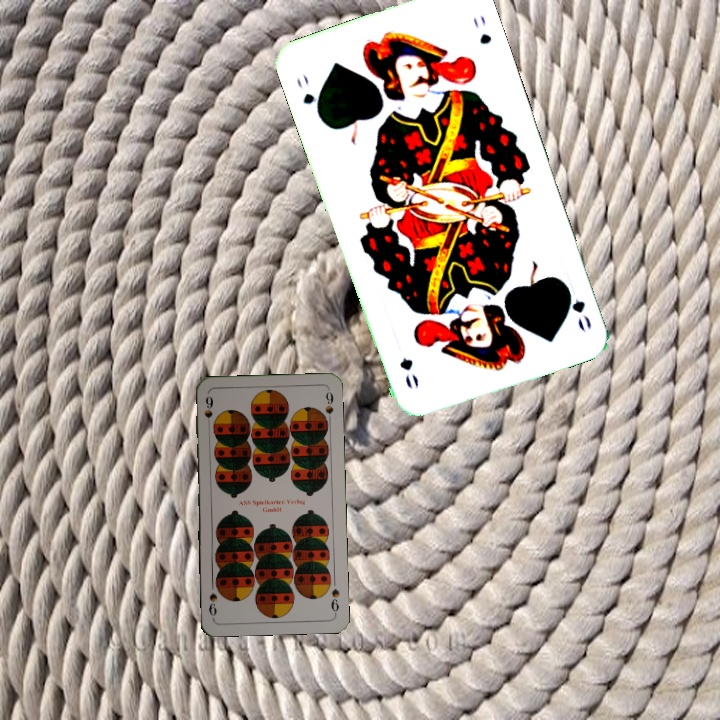GO: (559, 279, 594, 335), (292, 70, 323, 120)
S9: (201, 392, 215, 432), (327, 585, 342, 617)
